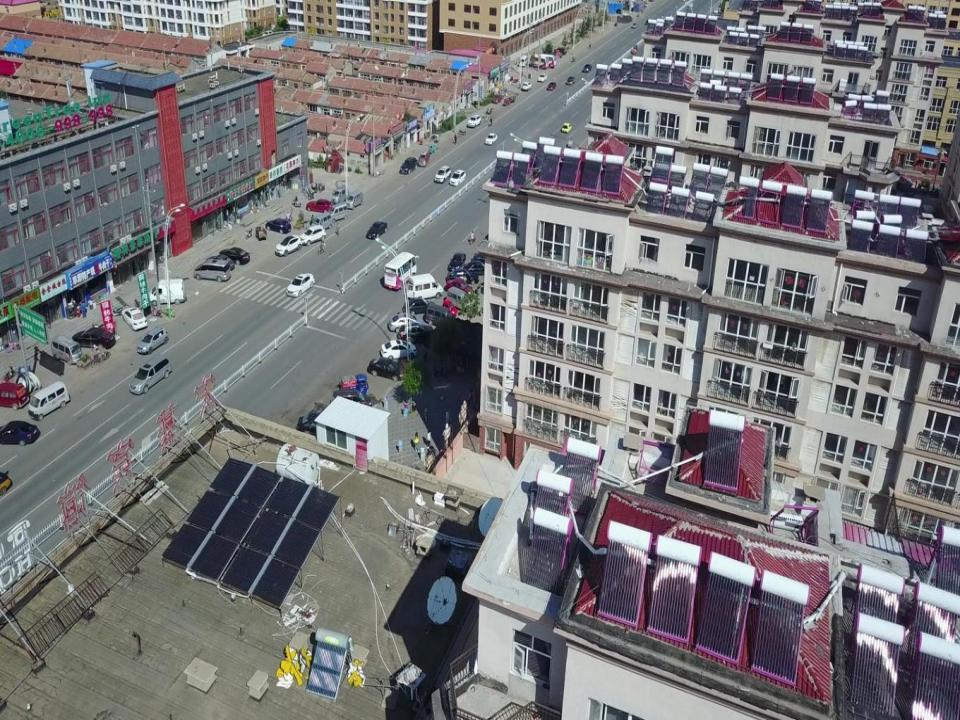bus: (383, 251, 420, 291), (537, 54, 556, 68), (528, 55, 548, 68)
car: (0, 420, 41, 446), (368, 357, 406, 382), (137, 325, 168, 355), (332, 389, 374, 411), (0, 382, 30, 410), (73, 328, 115, 348), (380, 339, 418, 361), (397, 322, 435, 342), (286, 273, 315, 298), (388, 314, 424, 332), (274, 234, 301, 257), (219, 246, 250, 266), (446, 267, 479, 285), (402, 298, 435, 316), (121, 307, 147, 329), (299, 225, 326, 246), (445, 278, 475, 296), (206, 254, 234, 272), (463, 260, 489, 276), (265, 218, 291, 234), (447, 251, 466, 272), (366, 221, 388, 239), (306, 198, 333, 212), (0, 470, 12, 498), (399, 156, 417, 174), (472, 252, 489, 266), (484, 133, 498, 146), (467, 115, 481, 128), (617, 13, 632, 23), (561, 122, 573, 133), (492, 93, 502, 105), (522, 81, 532, 91), (546, 81, 556, 90), (537, 73, 547, 82), (566, 75, 575, 84), (582, 64, 592, 72), (632, 23, 637, 29), (645, 19, 651, 24)
truck: (503, 95, 516, 107)
van: (127, 355, 172, 394), (28, 380, 71, 419), (147, 279, 186, 305), (50, 334, 83, 364), (407, 273, 443, 300), (193, 259, 231, 282), (426, 302, 454, 327), (445, 285, 471, 311), (327, 203, 348, 222), (310, 212, 332, 230), (345, 189, 364, 209), (331, 185, 349, 204), (418, 150, 430, 168), (519, 54, 528, 66)
